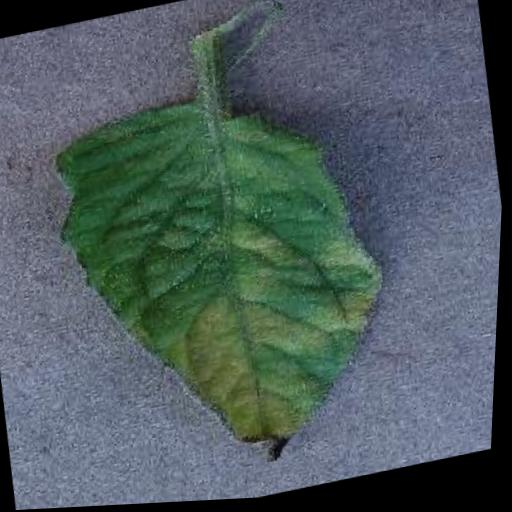Leaf Mold: (34, 64, 415, 503)
